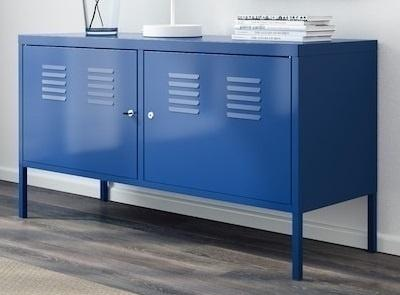cabinet_door: (142, 57, 291, 198), (26, 47, 140, 164)
handle: (123, 108, 136, 122), (146, 108, 157, 124)
